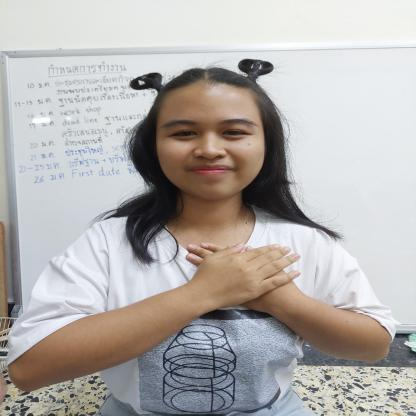Love: (170, 234, 314, 319)
